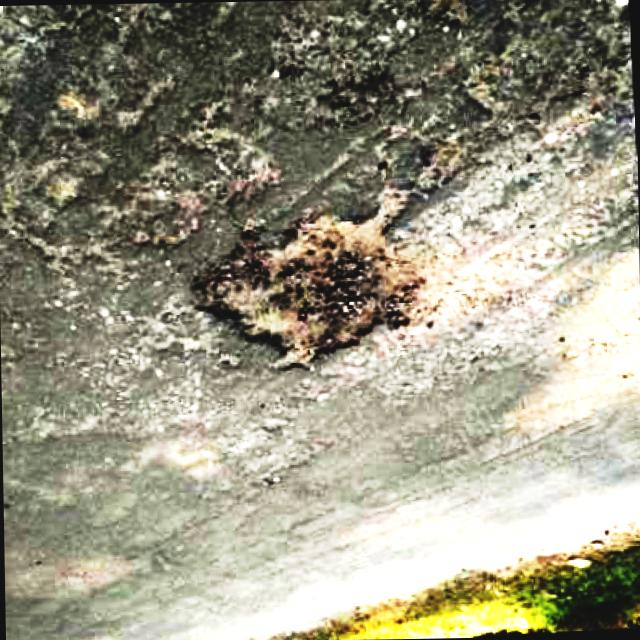pothole: (176, 208, 415, 370), (399, 0, 554, 25)
